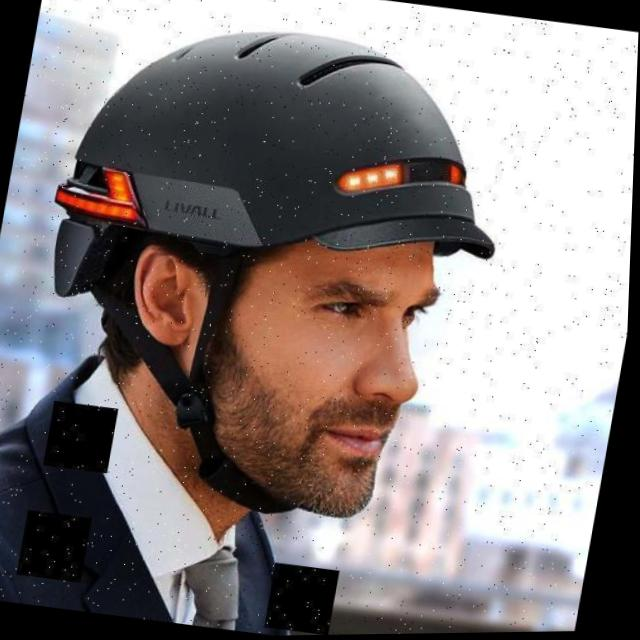helmet: (6, 0, 534, 548)
